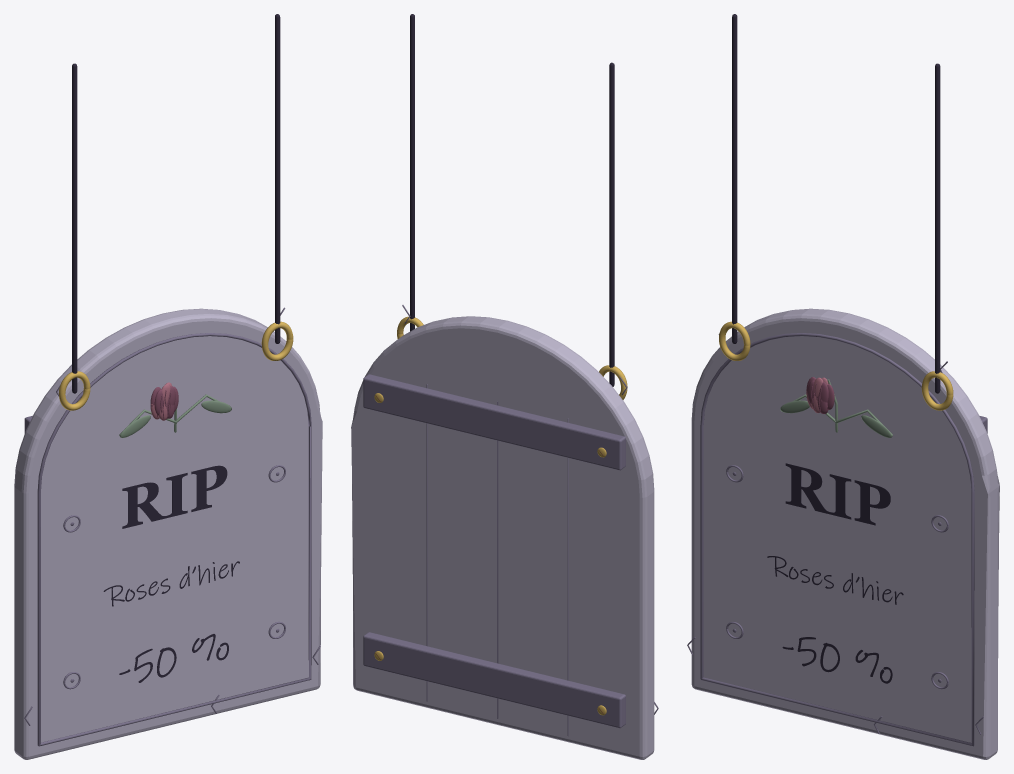
File: rip_promotion_sign.glb
3 renders of one model, left to right at view 1: azimuth 30°, elevation 25°; view 2: azimuth 150°, elevation 25°; view 3: azimuth 330°, elevation 25°, orthographic.
Visible parts, largest first — view 1: Beveled_wood_plaque, Inset_beveled_border, RIP, Suspension_cord, Suspension_cord.001, Discount, Roses_hier, Brass_eyelet, Brass_eyelet.001; view 2: Beveled_wood_plaque, Rear_wood_brace, Rear_wood_brace.001, Suspension_cord, Suspension_cord.001; view 3: Beveled_wood_plaque, Inset_beveled_border, RIP, Suspension_cord.001, Suspension_cord, Discount, Roses_hier, Brass_eyelet.001, Brass_eyelet.
Boxes of the visible parts, box(x1,y1,x2,y2) form: Beveled_wood_plaque: box(14, 308, 322, 759); Inset_beveled_border: box(37, 333, 311, 746); RIP: box(122, 465, 227, 528); Suspension_cord: box(72, 63, 77, 393); Suspension_cord.001: box(275, 14, 280, 343); Discount: box(119, 634, 228, 682); Roses_hier: box(103, 561, 239, 606); Brass_eyelet: box(58, 371, 90, 410); Brass_eyelet.001: box(261, 321, 293, 360); Beveled_wood_plaque: box(351, 316, 654, 759); Rear_wood_brace: box(363, 632, 625, 728); Rear_wood_brace.001: box(363, 374, 625, 470); Suspension_cord: box(609, 62, 614, 386); Suspension_cord.001: box(410, 14, 414, 331); Beveled_wood_plaque: box(691, 308, 999, 759); Inset_beveled_border: box(700, 333, 974, 746); RIP: box(785, 463, 890, 525); Suspension_cord.001: box(935, 63, 940, 393); Suspension_cord: box(732, 14, 737, 343); Discount: box(782, 637, 892, 683); Roses_hier: box(767, 556, 903, 604); Brass_eyelet.001: box(921, 371, 953, 410); Brass_eyelet: box(719, 321, 750, 360).
Size of the model in its own units: 0.5021 by 1.1 by 0.0814.
